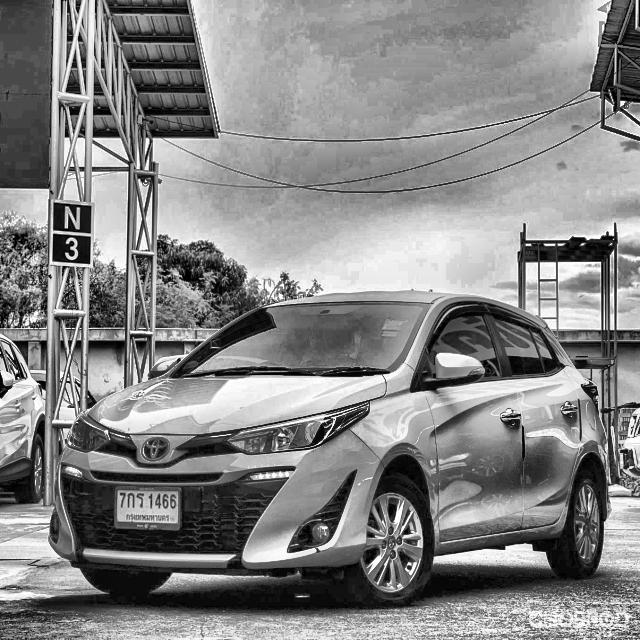license-plate: (113, 481, 183, 530)
